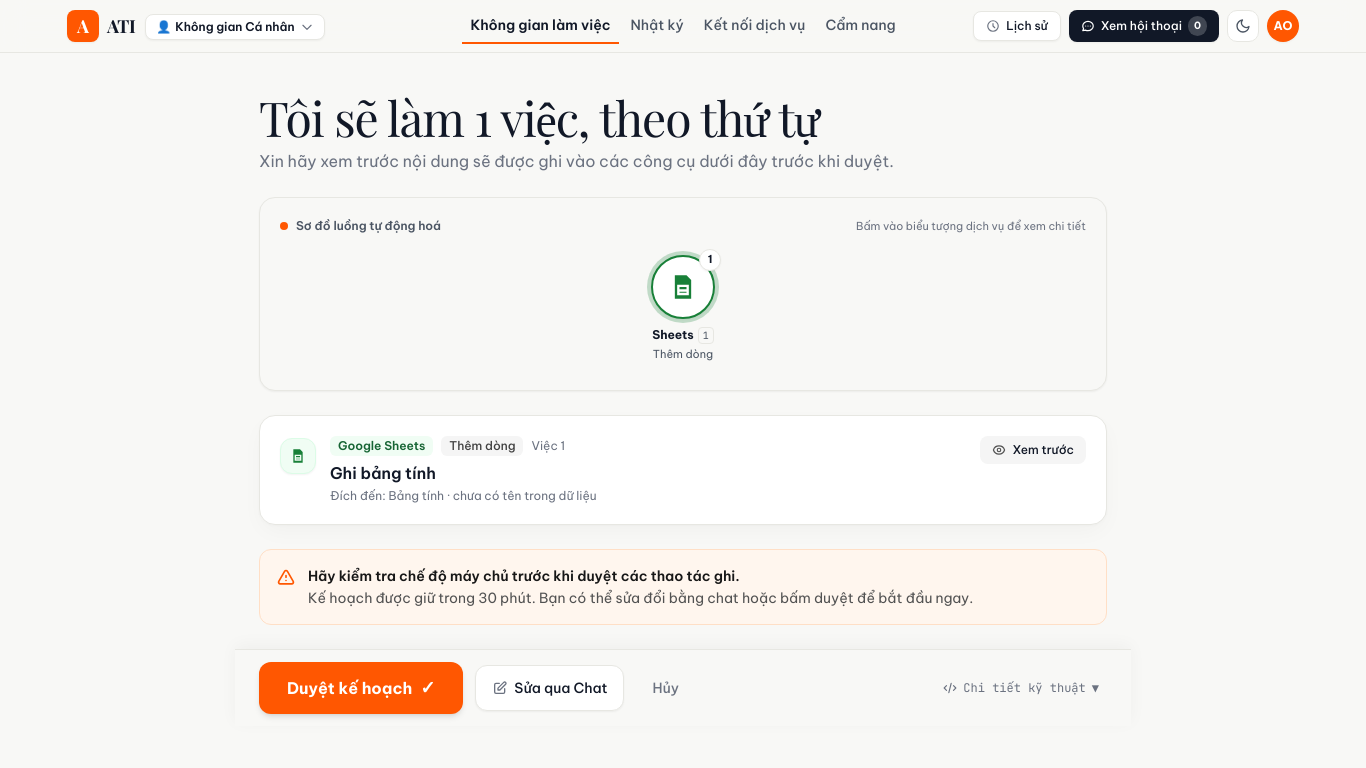
Test: Sheets preview copies the source value table with only the requested cells
Click the button "Xem trước" at (1033, 450), box 980,436 -> 1086,464
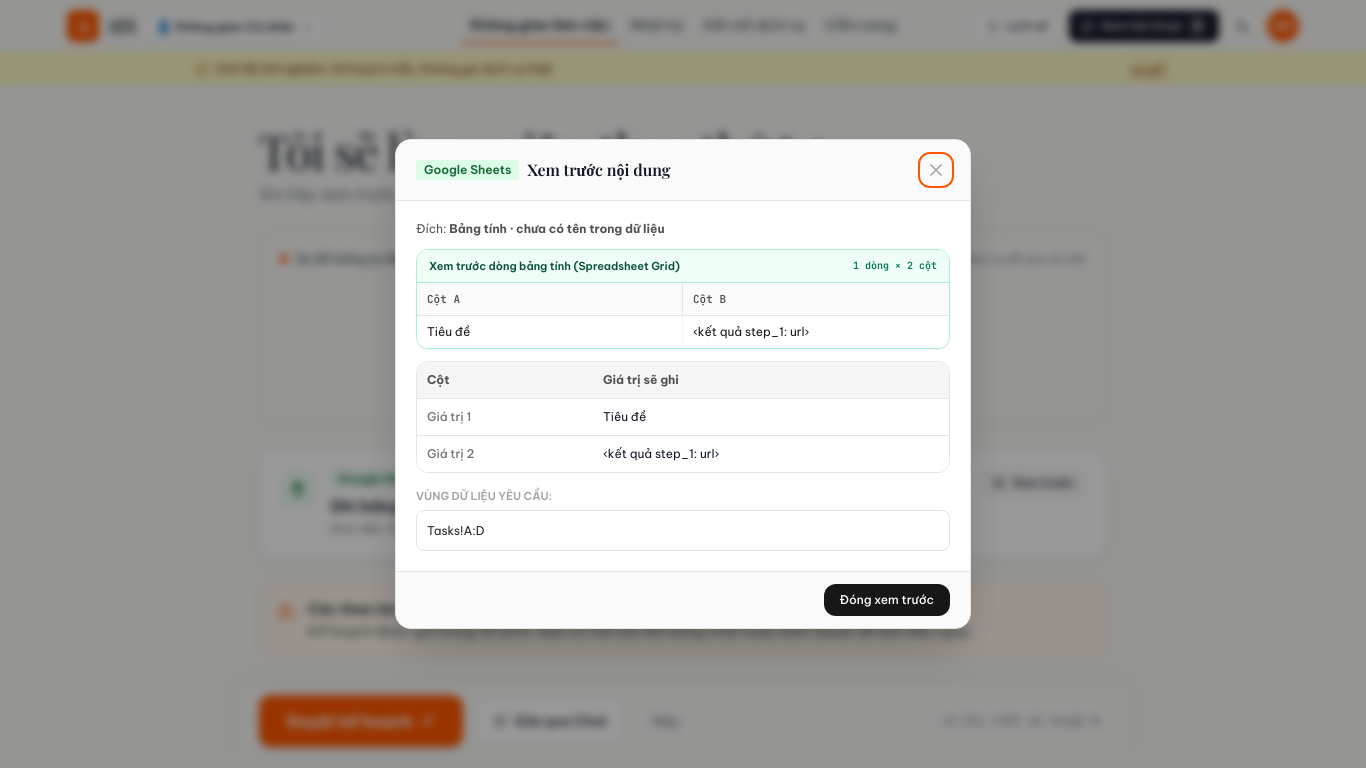
Expected: the text "Tiêu đề" is shown, 593,398 -> 949,435
Expected: the text "‹kết quả step_1: url›" is shown, 593,435 -> 949,472
